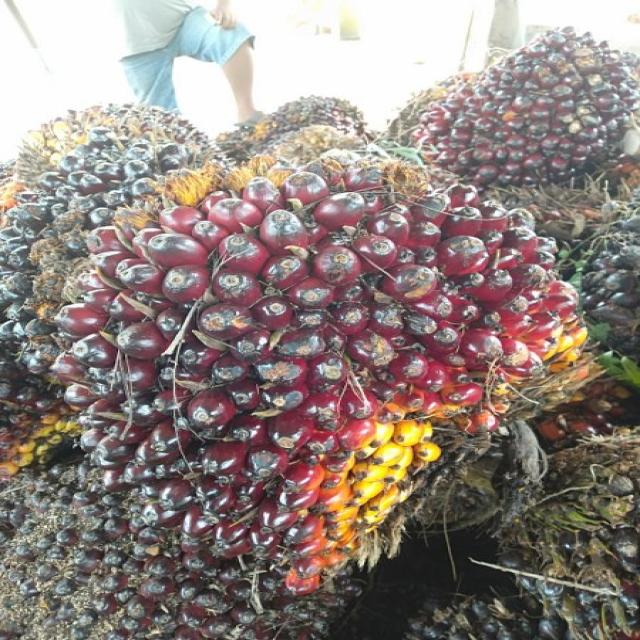fraksi 1: (36, 110, 604, 612)
